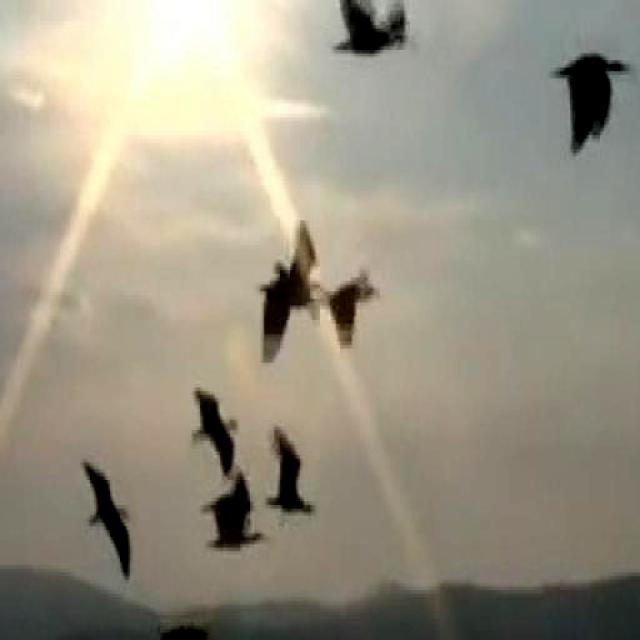airplane: (250, 224, 330, 368), (549, 34, 634, 164), (78, 445, 145, 591), (329, 0, 424, 80), (188, 378, 246, 479), (268, 421, 311, 521), (324, 268, 370, 350), (212, 484, 264, 551), (150, 614, 211, 640)
